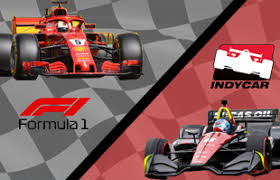FormulaOneCar: (1, 1, 146, 82), (141, 99, 280, 179)
